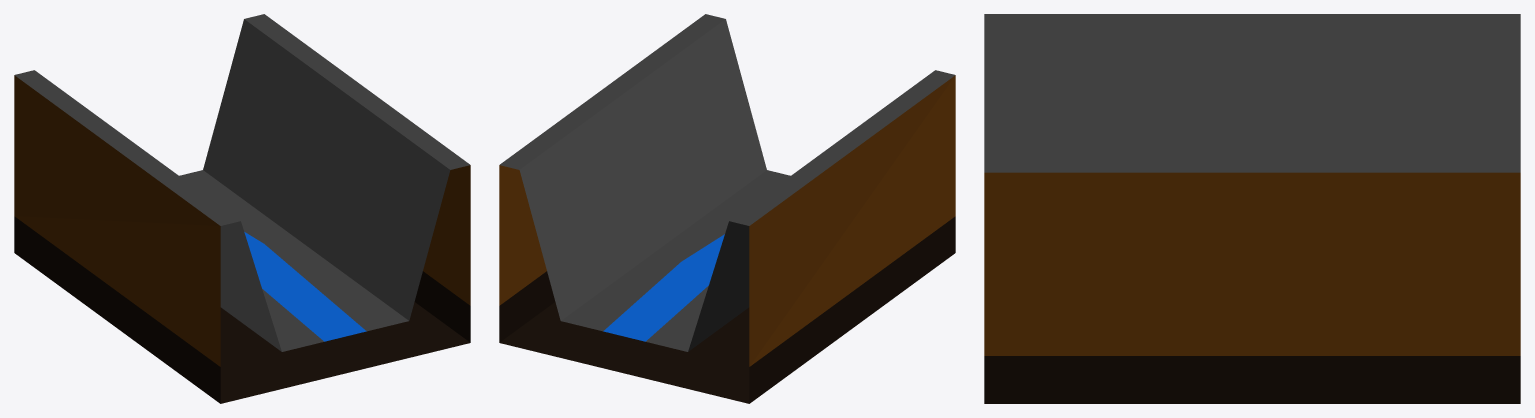
The model's file is SM_river02.FBX.
3 views of the same model, side by side, from view 1: azimuth 30°, elevation 25°; view 2: azimuth 150°, elevation 25°; view 3: azimuth 270°, elevation 25° (orthographic). The views are drawn at different scales.
Visible parts, largest first — view 1: river002; view 2: river002; view 3: river002.
Part boxes in pixels (x1,y1,x2,y2): river002: (14, 14, 470, 403); river002: (499, 14, 955, 403); river002: (984, 14, 1520, 403).
Size of the model in its own units: 700 by 476 by 1000.
